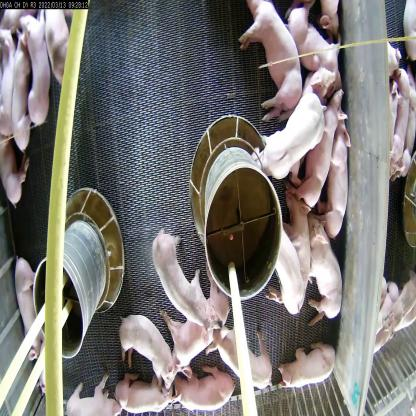Pig: (229, 0, 302, 116), (266, 206, 322, 338), (215, 319, 281, 415), (151, 240, 223, 326), (260, 86, 324, 181), (117, 300, 181, 388), (306, 207, 350, 326), (294, 97, 336, 203), (274, 336, 342, 400), (0, 36, 34, 155), (170, 363, 244, 416), (14, 14, 52, 116), (10, 259, 44, 366), (324, 113, 353, 234), (293, 153, 318, 275), (119, 368, 185, 414), (62, 375, 121, 415)
